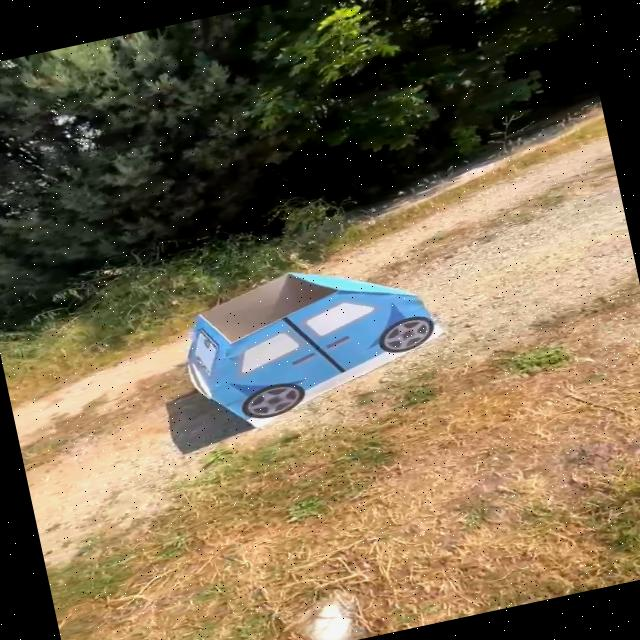blue_car: (142, 227, 479, 455)
